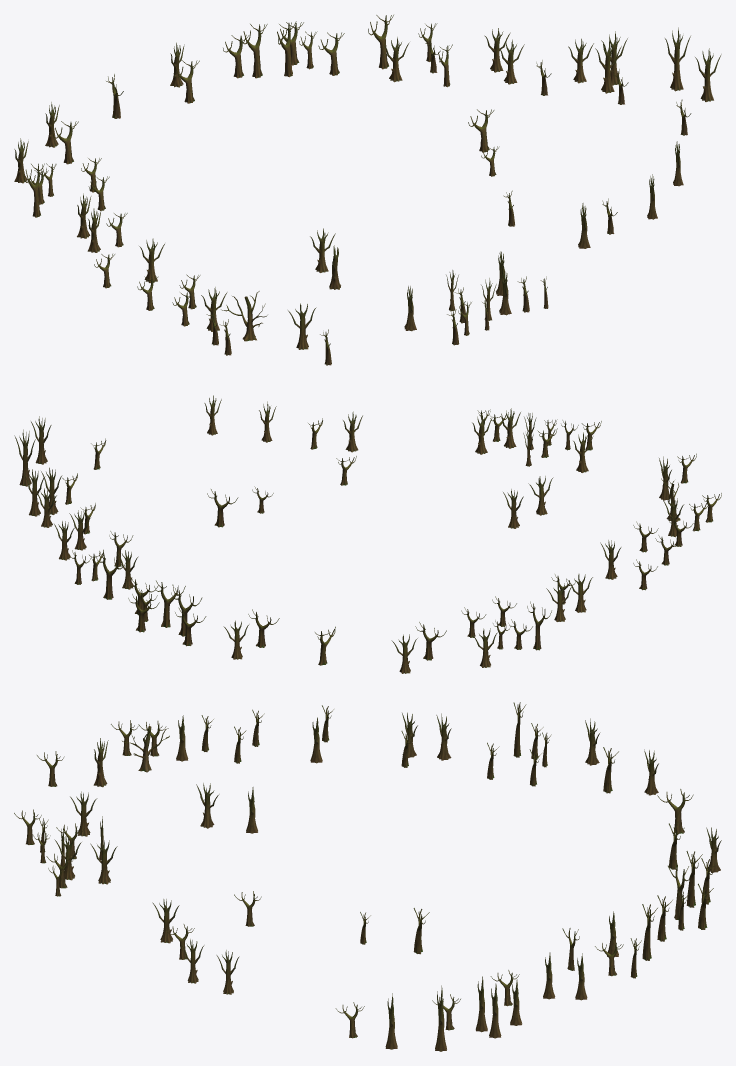
The model's file is shuganfenzu_03.fbx.
3 views of the same model, one above another, from view 1: azimuth 30°, elevation 25°; view 2: azimuth 150°, elevation 25°; view 3: azimuth 270°, elevation 25° (orthographic). The views are drawn at different scales.
Parts seen in each view (by area): view 1: shugan_01_2; view 2: shugan_01_2; view 3: shugan_01_2.
Boxes of the visible parts, box(x1,y1,x2,y2) form: shugan_01_2: box(14, 15, 721, 365); shugan_01_2: box(14, 395, 721, 673); shugan_01_2: box(14, 702, 721, 1051).
Bounding box in the file's own units: 16960 × 1679 × 15365.
